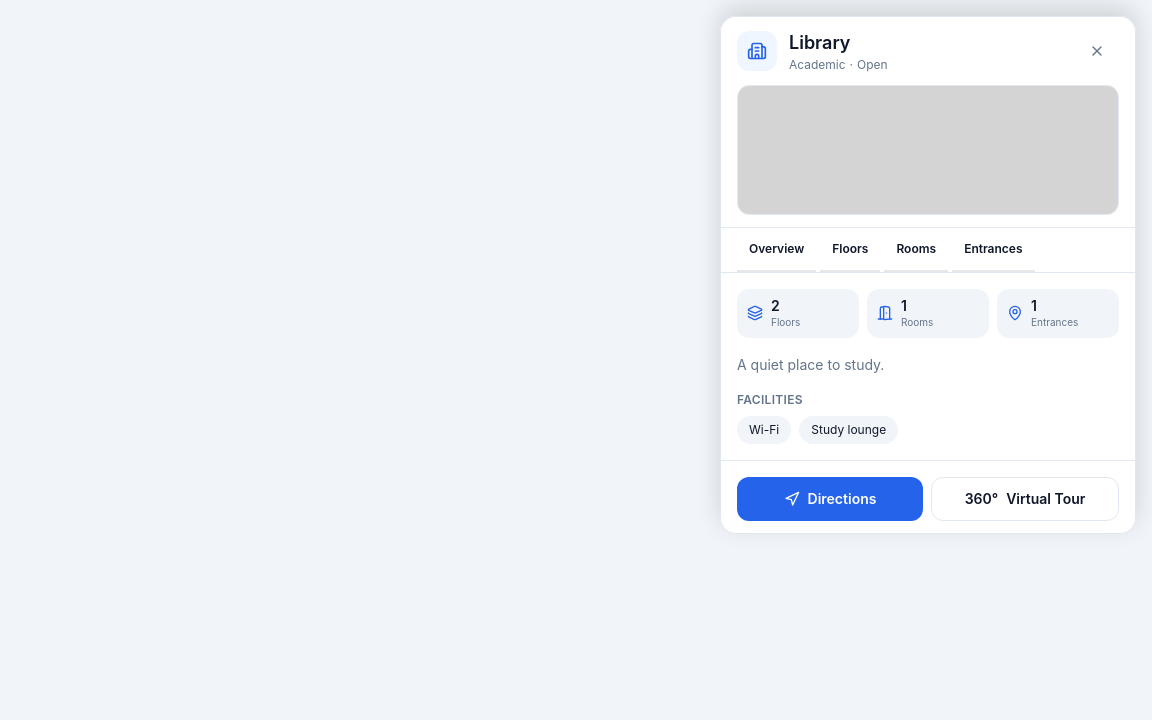
BuildingSheet › shows actual floors, rooms, and named entrances without inventing GF
What coordinates should you click on to do the following:
click the button "Floors"
I would click on:
 (850, 250)
Its box is [820,228,880,272].
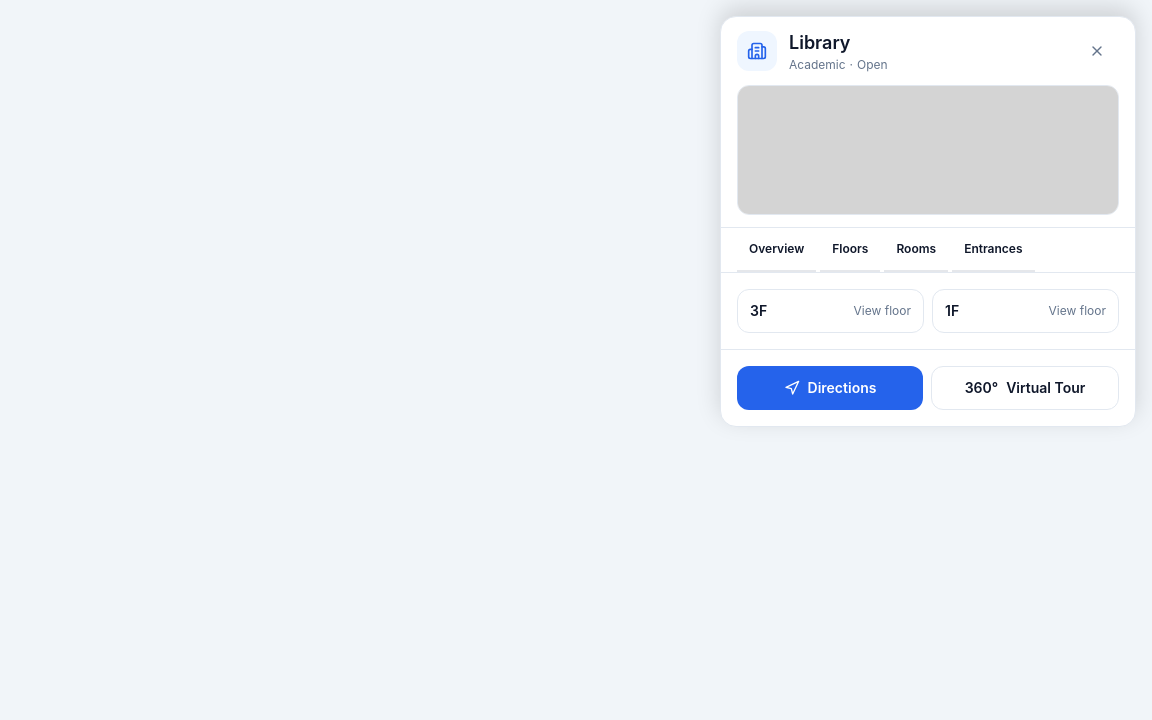
Now the text "3F" is shown, box [750,301,767,321]
Now the text "1F" is shown, box [945,301,959,321]
What coordinates should you click on to do the following:
click the button "Rooms"
I would click on:
 (916, 250)
Its box is [884,228,948,272].
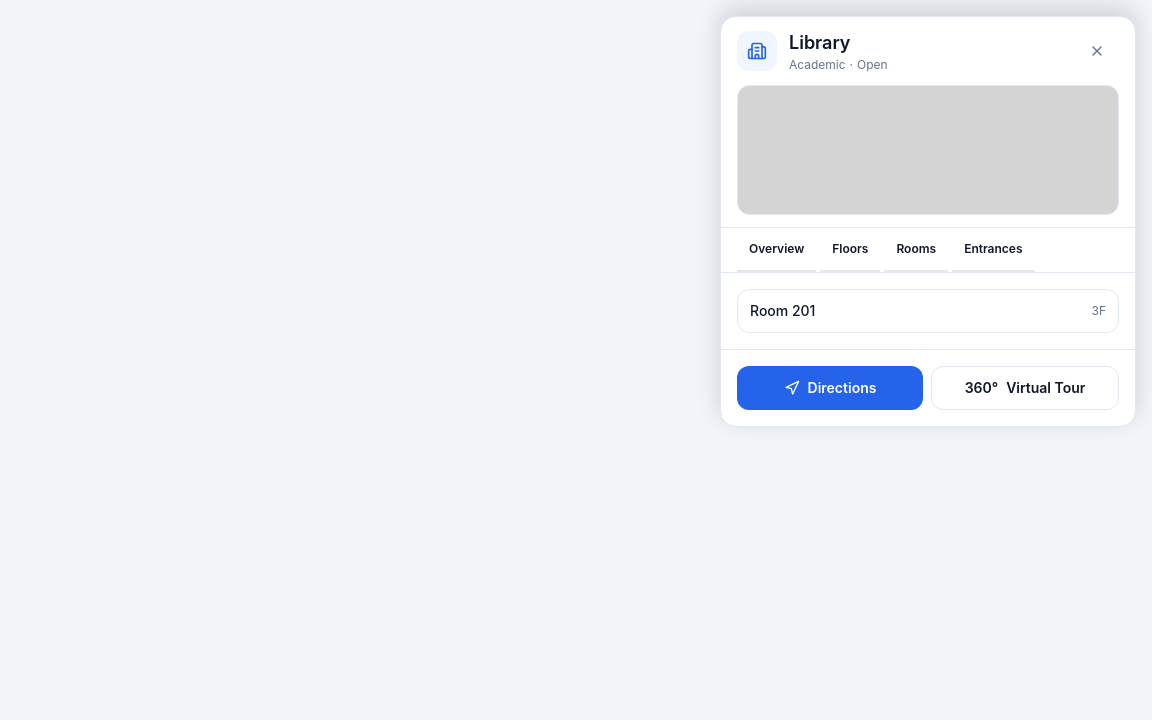
Now the text "Room 201" is shown, box [750,302,815,319]
What coordinates should you click on to do the following:
click the button "Entrances"
I would click on:
 (993, 250)
Its box is [952,228,1034,272].
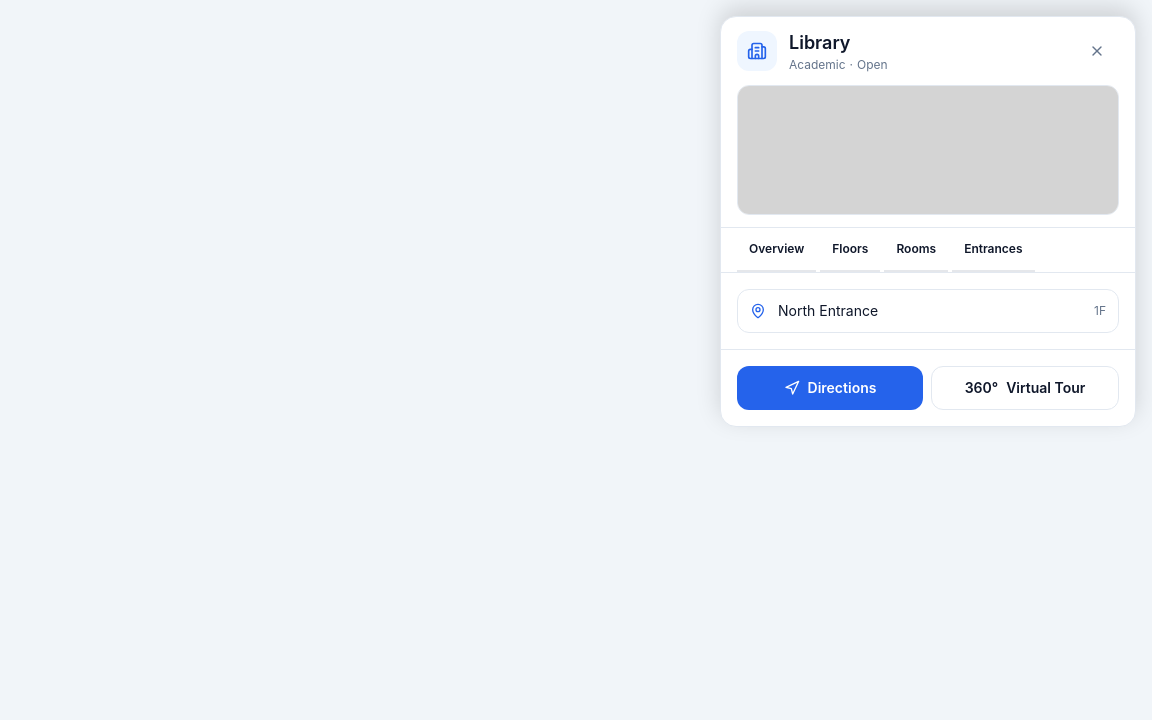
Now the text "North Entrance" is shown, box [778,302,878,319]
